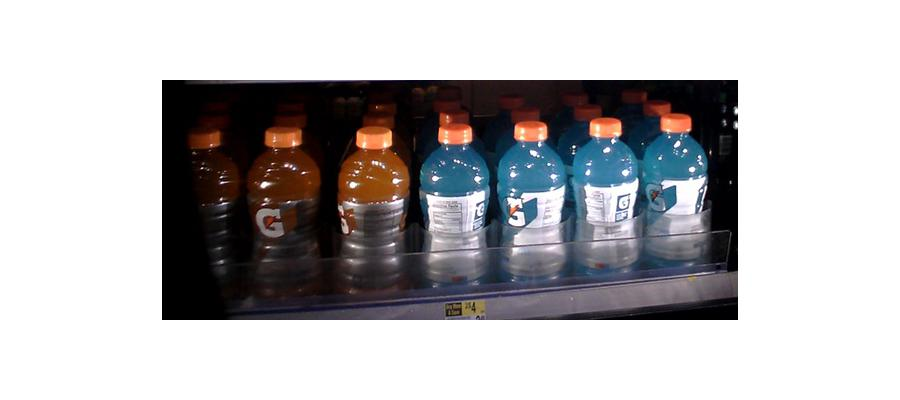bottle: (249, 125, 320, 304), (337, 125, 409, 299), (420, 123, 490, 295), (499, 121, 568, 290), (573, 120, 641, 280), (645, 112, 709, 271), (186, 134, 242, 301)
